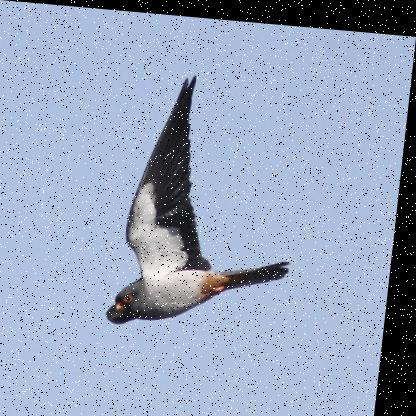Burung: (107, 66, 314, 336)
